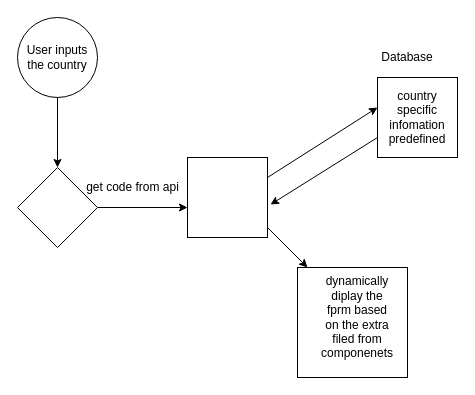
This 475x395 diagram has some shape labels left out. The shapes that lost their labels are listed below. From the top down, each one's centre as x and y in pixels, then its label:
At point 57,207: "country".
At point 227,197: "required filed obtained".
